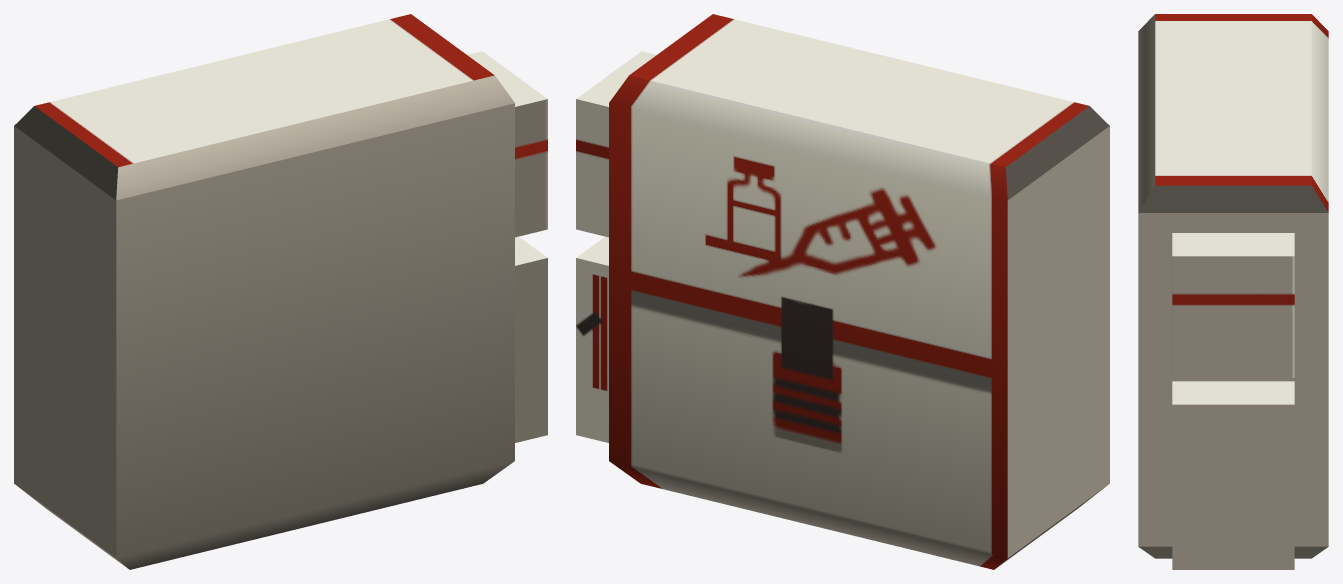
Rendered from back_acc_21.FBX.
3 renders of one model, left to right at view 1: azimuth 30°, elevation 25°; view 2: azimuth 150°, elevation 25°; view 3: azimuth 270°, elevation 25°, orthographic. The views are drawn at different scales.
Parts seen in each view (by area): view 1: back_acc_21; view 2: back_acc_21; view 3: back_acc_21.
Part boxes in pixels (<box>): back_acc_21: <box>14,14,547,569</box>; back_acc_21: <box>576,14,1109,569</box>; back_acc_21: <box>1138,14,1328,569</box>.
Bounding box in the file's own units: 13.44 × 11.57 × 5.28.
